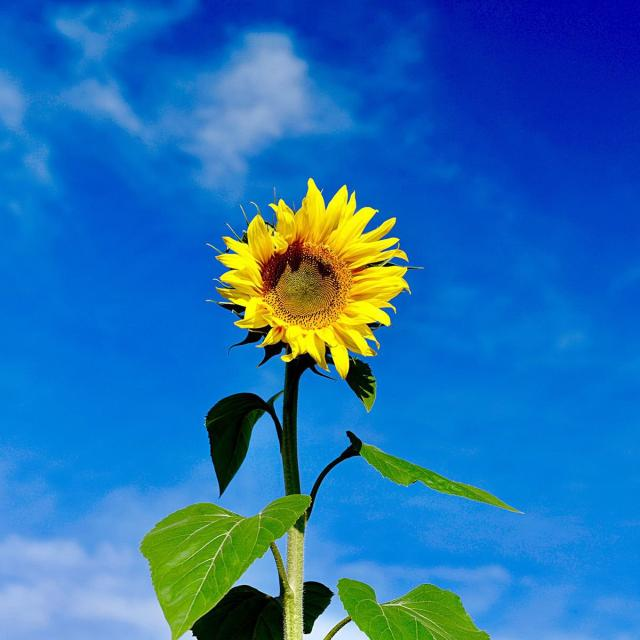sunflower: (206, 176, 414, 380)
